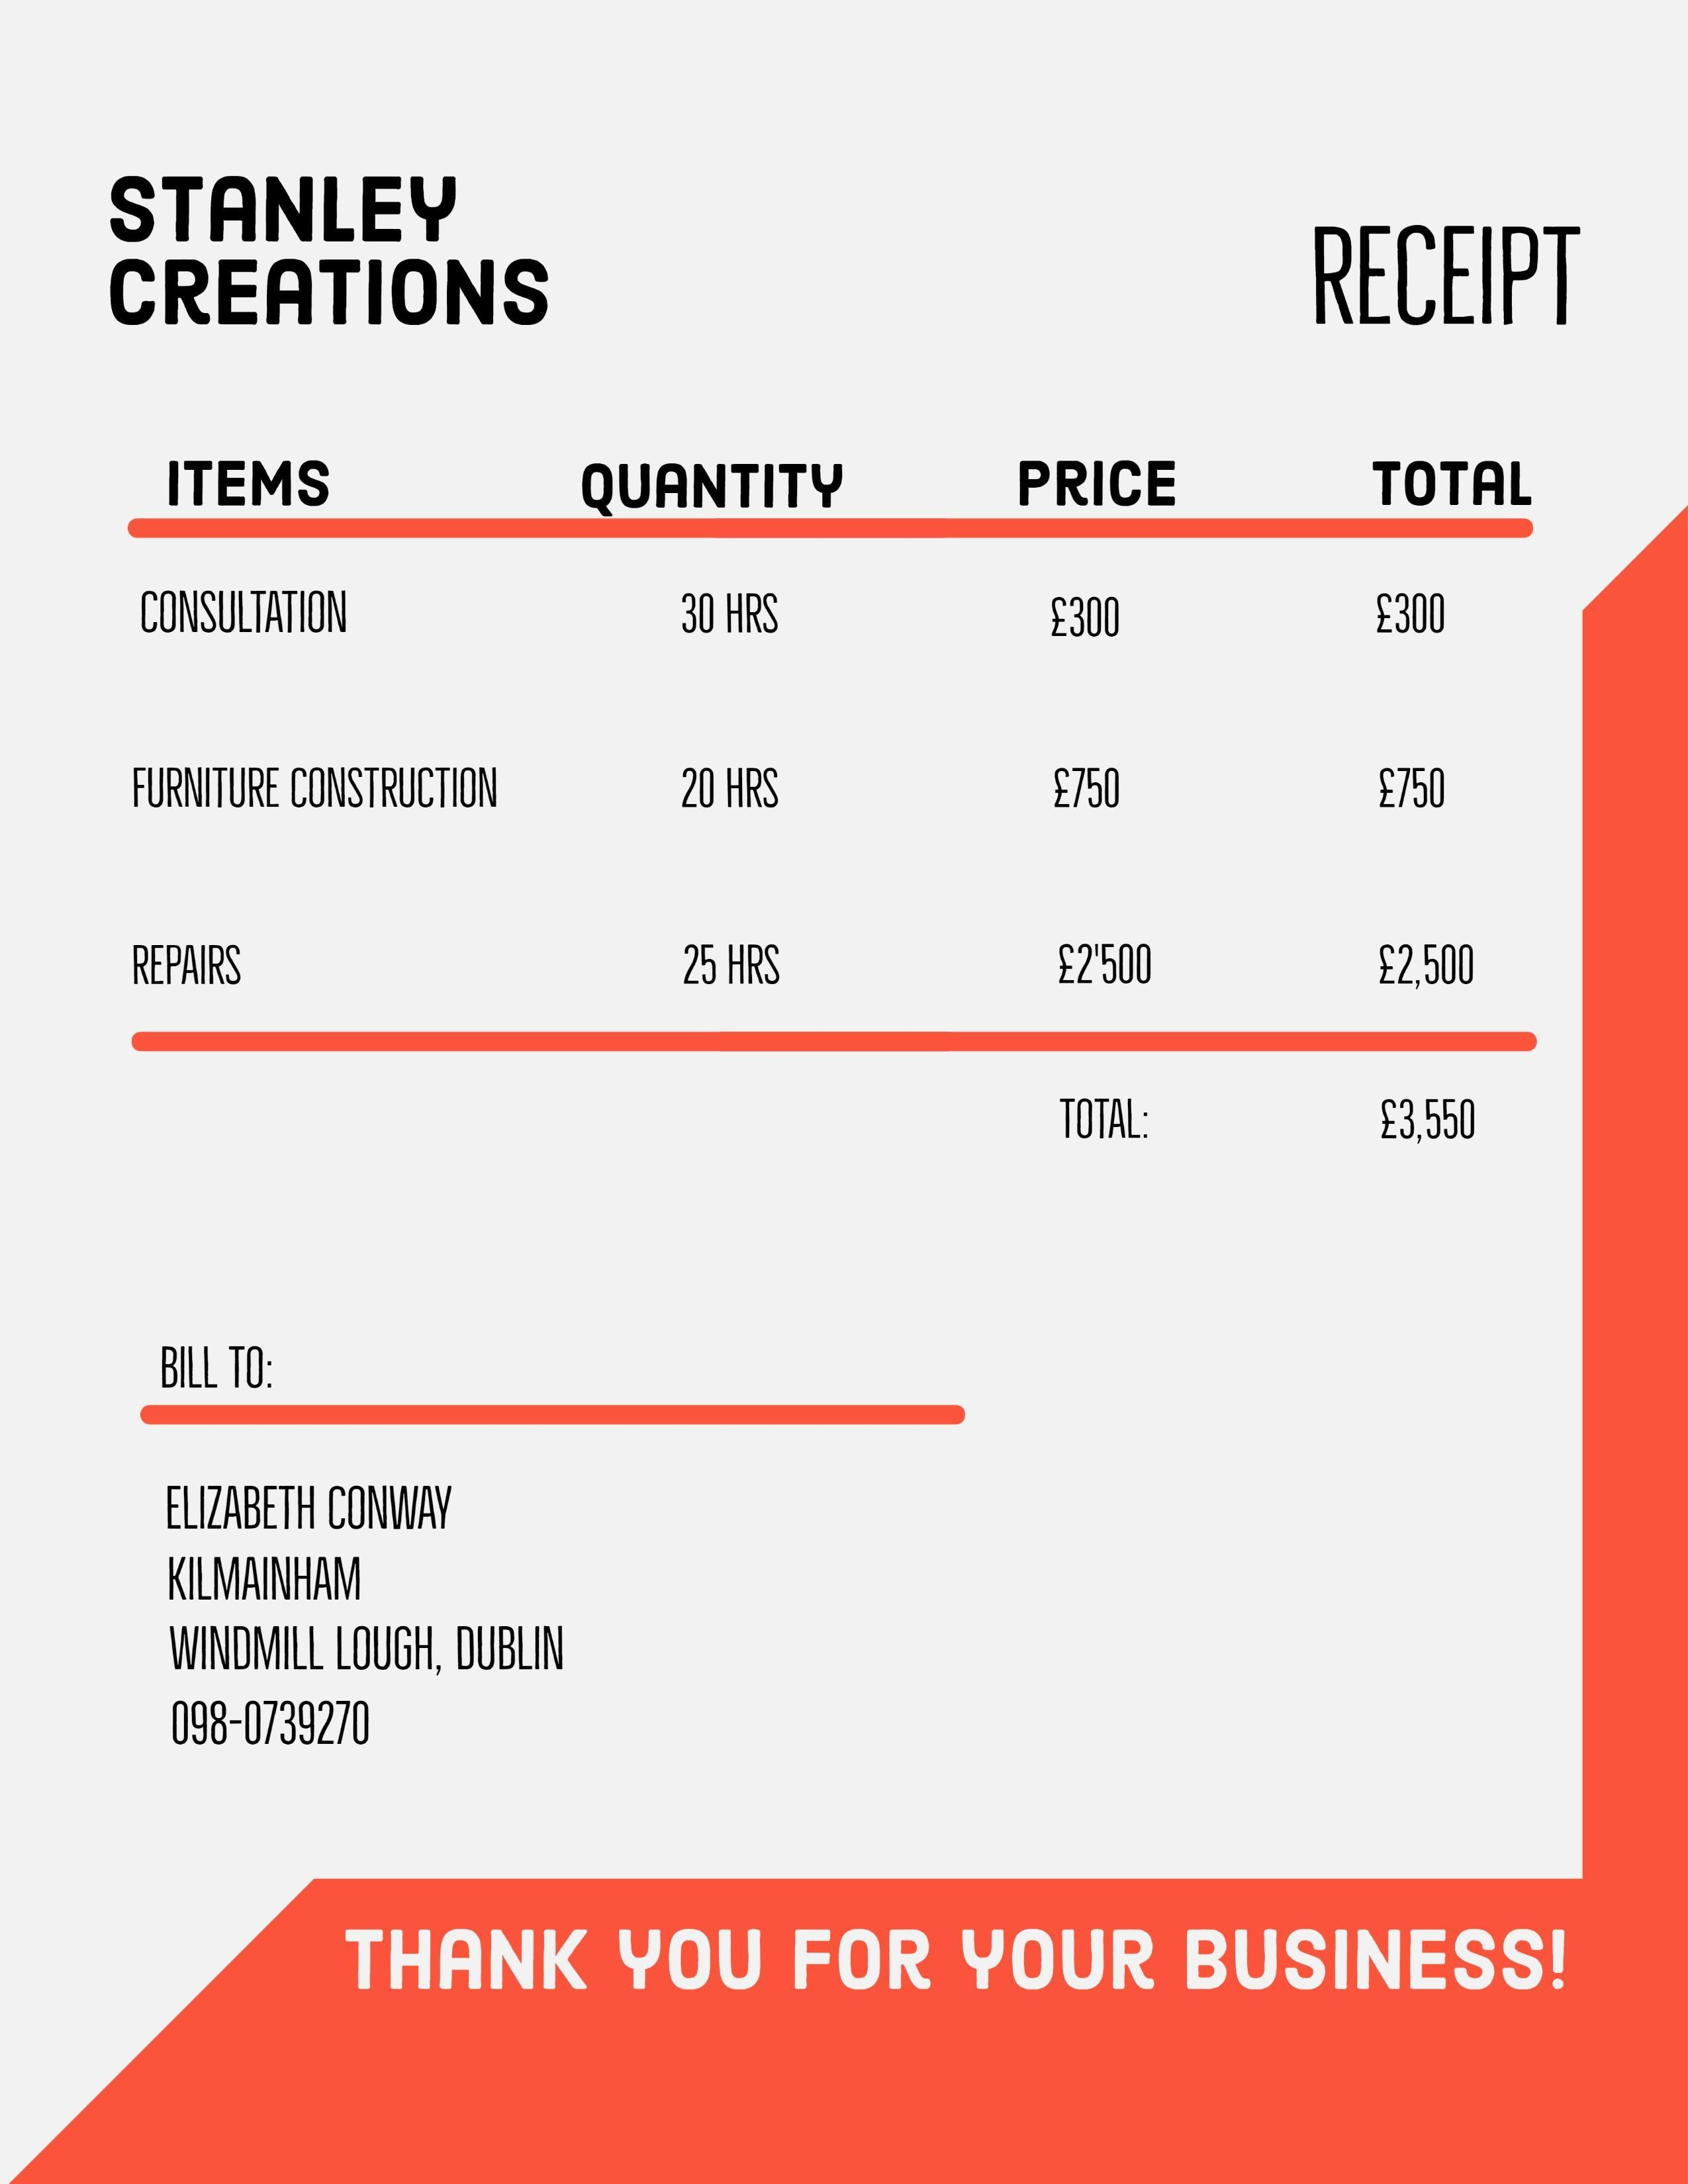ROI: (117, 445, 1543, 1033), (135, 1326, 667, 1764), (89, 152, 553, 331), (1032, 1064, 1505, 1159)
